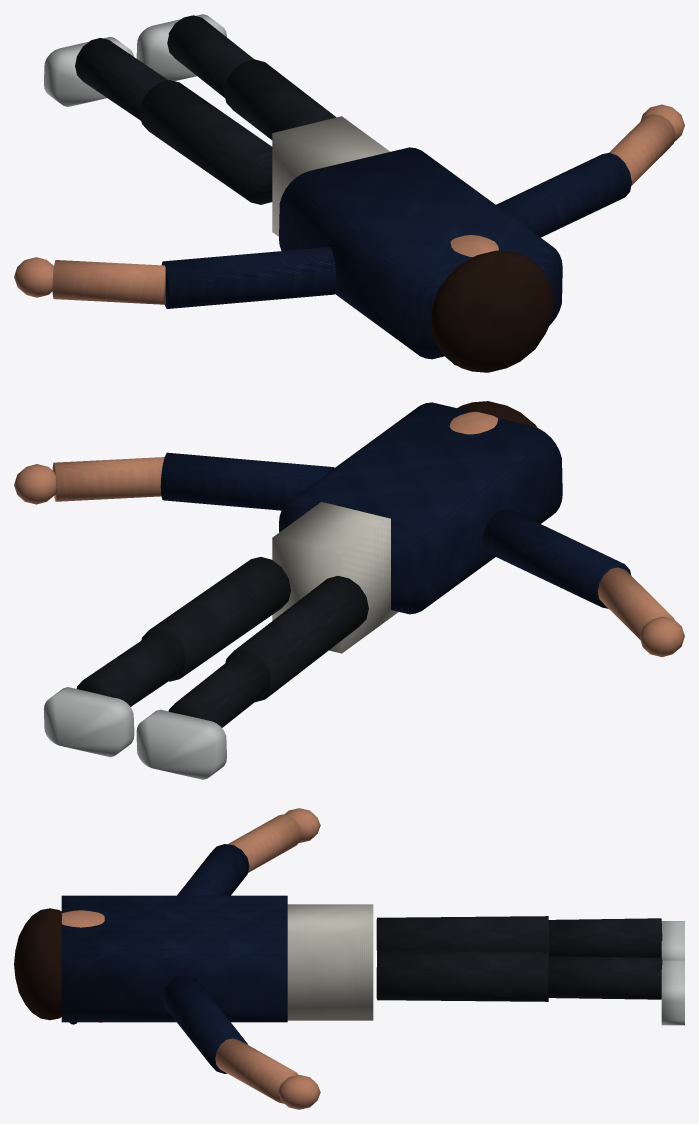
Rendered from CHAR_FEMALE_BUSINESS_002.glb.
3 views of the same model, one above another, from view 1: azimuth 30°, elevation 25°; view 2: azimuth 150°, elevation 25°; view 3: azimuth 270°, elevation 25° (orthographic). The views are drawn at different scales.
Parts seen in each view (by area): view 1: torso_jacket_003, hair_cap_001, thigh_011, upper_arm_005, upper_arm_008, shirt_panel_004, thigh_014, forearm_006, shin_012, shin_015, forearm_009, shoe_013 (+4 smaller); view 2: torso_jacket_003, shirt_panel_004, thigh_014, thigh_011, upper_arm_008, upper_arm_005, shoe_013, shoe_016, shin_015, forearm_009, shin_012, forearm_006 (+4 smaller); view 3: torso_jacket_003, shirt_panel_004, thigh_014, thigh_011, shin_015, hair_cap_001, shin_012, upper_arm_008, forearm_009, upper_arm_005, forearm_006, shoe_016 (+4 smaller).
Boxes of the visible parts, x1,y1,x2,y2 form: torso_jacket_003: [279, 147, 562, 359]; hair_cap_001: [430, 250, 553, 372]; thigh_011: [139, 80, 272, 204]; upper_arm_005: [161, 247, 336, 308]; upper_arm_008: [496, 152, 631, 237]; shirt_panel_004: [272, 116, 390, 236]; thigh_014: [224, 59, 336, 139]; forearm_006: [52, 260, 165, 304]; shin_012: [75, 38, 167, 120]; shin_015: [167, 15, 254, 97]; forearm_009: [609, 114, 675, 185]; shoe_013: [44, 37, 133, 106]; torso_jacket_003: [279, 402, 562, 614]; shirt_panel_004: [272, 502, 398, 653]; thigh_014: [141, 557, 290, 681]; thigh_011: [225, 576, 368, 702]; upper_arm_008: [160, 452, 334, 510]; upper_arm_005: [483, 509, 631, 608]; shoe_013: [136, 709, 226, 779]; shoe_016: [43, 687, 134, 757]; shin_015: [76, 632, 184, 706]; forearm_009: [52, 457, 164, 501]; shin_012: [168, 652, 270, 727]; forearm_006: [598, 567, 673, 639]; torso_jacket_003: [61, 895, 287, 1022]; shirt_panel_004: [287, 904, 373, 1020]; thigh_014: [376, 950, 548, 1001]; thigh_011: [376, 916, 549, 955]; shin_015: [548, 956, 662, 999]; hair_cap_001: [14, 908, 61, 1020]; shin_012: [548, 918, 662, 957]; upper_arm_008: [162, 975, 247, 1073]; forearm_009: [215, 1038, 298, 1103]; upper_arm_005: [177, 844, 249, 895]; forearm_006: [228, 814, 301, 872]; shoe_016: [661, 960, 684, 1025].
Bounding box in the file's own units: 1.72 × 0.2918 × 1.72.
Materials: 8 (8 with a texture image).
